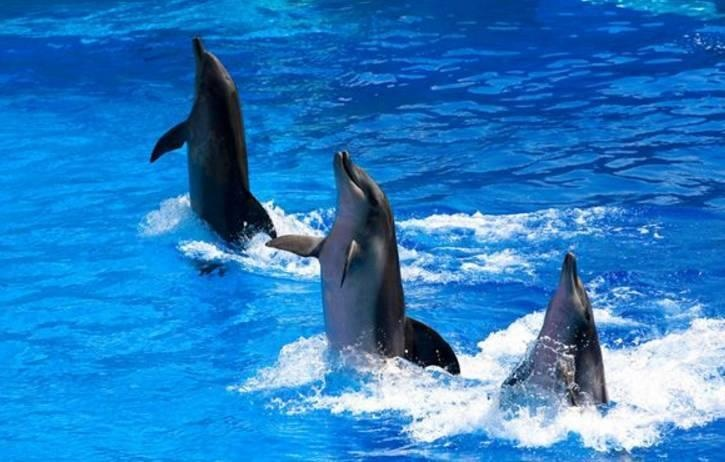fish: (267, 146, 461, 377), (149, 34, 274, 243), (482, 251, 612, 422)
